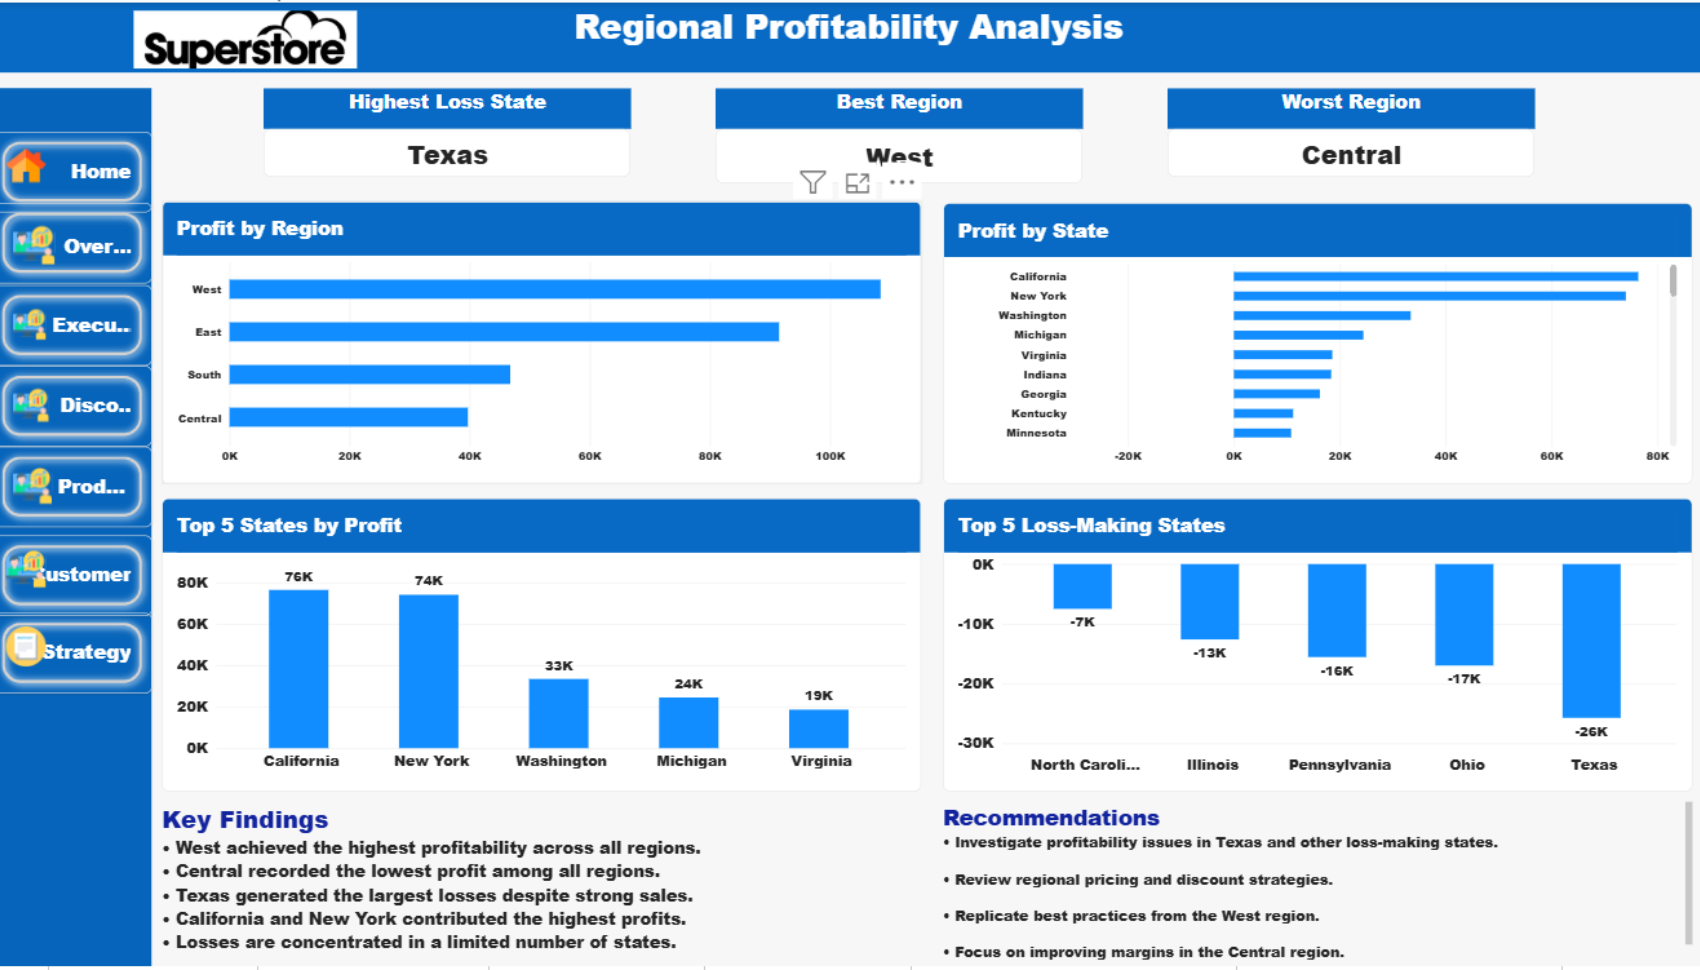

What the dashboard file says about the page in this screenshot:
{"tool":"powerbi","page":{"name":"Regional Profitability Analysis","canvas":[1920,1080],"ordinal":5},"visuals":[{"type":"cardVisual","title":"Highest Loss State","fields":{"Data":["Sample - Superstore.Highest Loss State"]},"box":[303.9,95.2,411.7,100],"z":0},{"type":"cardVisual","title":"Worst Region","fields":{"Data":["Sample - Superstore.Worst Region"]},"box":[1317.4,95.2,411.7,100],"z":1000},{"type":"cardVisual","title":"Best Region","fields":{"Data":["Sample - Superstore.Best Region"]},"box":[811.5,95.2,411.7,106.7],"z":2000},{"type":"clusteredBarChart","title":"Profit by Region","fields":{"Category":["Sample - Superstore.Region"],"Y":["Sum(Sample - Superstore.Profit)"]},"box":[190.4,222.1,851.6,317.3],"z":3000},{"type":"clusteredColumnChart","title":"Top 5 States by Profit","fields":{"Category":["Sample - Superstore.State"],"Y":["Sum(Sample - Superstore.Profit)"]},"box":[190.4,556,851.6,328.9],"z":4000},{"type":"clusteredBarChart","title":"Profit by State","fields":{"Category":["Sample - Superstore.State"],"Y":["Sum(Sample - Superstore.Profit)"]},"box":[1065.3,223.7,839.9,315.6],"z":5000},{"type":"clusteredColumnChart","title":"Top 5 Loss-Making States","fields":{"Category":["Sample - Superstore.State"],"Y":["Sum(Sample - Superstore.Profit)"]},"box":[1065.3,556,839.9,328.9],"z":6000},{"type":"textbox","box":[0,0,1920,78.3],"z":7000},{"type":"textbox","box":[190.4,895,851.6,185.3],"z":8000},{"type":"textbox","box":[1065.3,895,839.9,185.3],"z":9000},{"type":"image","box":[110,8.3,346.7,65],"z":10000},{"type":"textbox","box":[0,95.2,178.7,985.2],"z":10001},{"type":"group","id":"g1","title":"Group 1","box":[0,144.1,178.3,630.4],"z":10002},{"type":"actionButton","box":[0,144.1,179.1,90],"z":23000,"group":"g1"},{"type":"actionButton","box":[0,223.3,179.1,90],"z":24000,"group":"g1"},{"type":"actionButton","box":[0,497.2,179.1,90],"z":25000,"group":"g1"},{"type":"actionButton","box":[0,684.2,179.1,90],"z":26000,"group":"g1"},{"type":"actionButton","box":[0,316.8,179.1,90],"z":27000,"group":"g1"},{"type":"actionButton","box":[0,407,179.1,90],"z":28000,"group":"g1"},{"type":"actionButton","box":[0,595.7,179.1,90],"z":29000,"group":"g1"}]}

Visuals, with their boxes in screenshot pixels (x1, y1, x2, y2), scaled from the page's 1920x1080 canvas onto the 1700x970 screenshot:
"Highest Loss State" cardVisual: bbox(269, 86, 634, 175)
"Worst Region" cardVisual: bbox(1166, 86, 1531, 175)
"Best Region" cardVisual: bbox(719, 86, 1083, 181)
"Profit by Region" clusteredBarChart: bbox(169, 199, 923, 484)
"Top 5 States by Profit" clusteredColumnChart: bbox(169, 499, 923, 795)
"Profit by State" clusteredBarChart: bbox(943, 201, 1687, 484)
"Top 5 Loss-Making States" clusteredColumnChart: bbox(943, 499, 1687, 795)
textbox: bbox(0, 0, 1699, 70)
textbox: bbox(169, 804, 923, 969)
textbox: bbox(943, 804, 1687, 969)
image: bbox(97, 7, 404, 66)
textbox: bbox(0, 86, 158, 969)
"Group 1" group: bbox(0, 129, 158, 696)
actionButton: bbox(0, 129, 159, 210)
actionButton: bbox(0, 201, 159, 281)
actionButton: bbox(0, 447, 159, 527)
actionButton: bbox(0, 615, 159, 695)
actionButton: bbox(0, 285, 159, 365)
actionButton: bbox(0, 366, 159, 446)
actionButton: bbox(0, 535, 159, 616)
